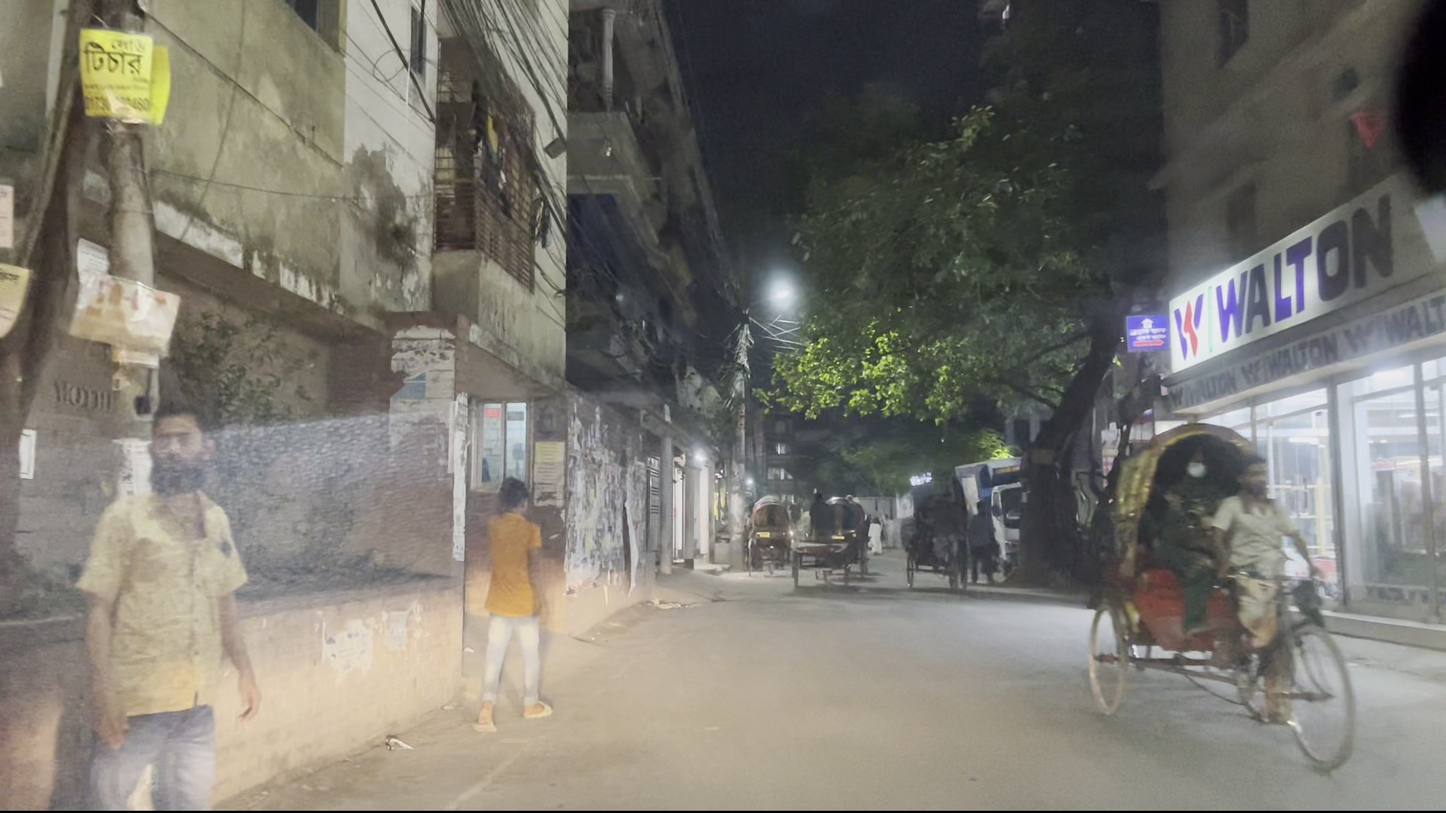person: (70, 395, 270, 811), (468, 468, 563, 735), (959, 492, 1000, 589)
truck: (947, 453, 1027, 570)
